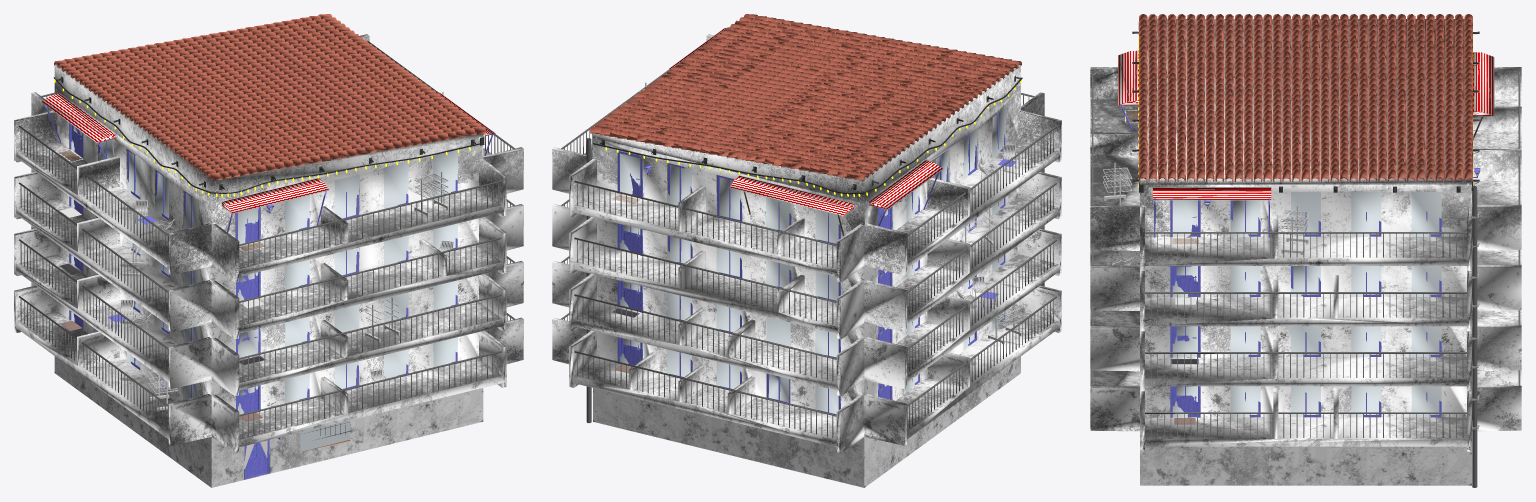
Rendered from med-apartment.glb.
3 views of the same model, side by side, from view 1: azimuth 30°, elevation 25°; view 2: azimuth 150°, elevation 25°; view 3: azimuth 270°, elevation 25° (orthographic). The views are drawn at different scales.
Visible parts, largest first — view 1: Immeuble 1 étage, Tuiles, Immeuble 1 barrière, auvent.002, auvent.001, étendoire à linge, Porte.016, étendoire à linge.001; view 2: Immeuble 1 étage, Tuiles, Immeuble 1 barrière, auvent.003, auvent.001, Base guirelande.002, étendoire à linge.003, Porte.012, Porte.013; view 3: Immeuble 1 étage, Tuiles, Immeuble 1 barrière, Gouttière, auvent, auvent.003, auvent.002, étendoire à linge.004, étendoire à linge, Porte.005, Porte.007.
Boxes of the visible parts, x1,y1,x2,y2 form: Immeuble 1 étage: [14, 34, 523, 487]; Tuiles: [54, 14, 485, 180]; Immeuble 1 barrière: [18, 40, 514, 437]; auvent.002: [222, 178, 328, 213]; auvent.001: [41, 93, 115, 142]; étendoire à linge: [414, 171, 448, 216]; Porte.016: [244, 440, 269, 479]; étendoire à linge.001: [365, 297, 399, 342]; Immeuble 1 étage: [552, 34, 1061, 487]; Tuiles: [590, 14, 1021, 180]; Immeuble 1 barrière: [561, 69, 1056, 438]; auvent.003: [729, 175, 854, 215]; auvent.001: [869, 160, 943, 209]; Base guirelande.002: [592, 134, 862, 194]; étendoire à linge.003: [988, 304, 1021, 343]; Porte.012: [617, 280, 643, 312]; Porte.013: [617, 223, 643, 255]; Immeuble 1 étage: [1090, 19, 1521, 485]; Tuiles: [1138, 14, 1473, 181]; Immeuble 1 barrière: [1092, 74, 1520, 437]; Gouttière: [1472, 185, 1477, 487]; auvent: [1153, 187, 1271, 200]; auvent.003: [1473, 52, 1494, 116]; auvent.002: [1118, 50, 1138, 105]; étendoire à linge.004: [1280, 205, 1309, 254]; étendoire à linge: [1102, 162, 1132, 205]; Porte.005: [1170, 386, 1200, 417]; Porte.007: [1170, 266, 1200, 297].
Bounding box in the file's own units: 18.72 × 15.9 × 18.72.
21 materials, 10 textured.
